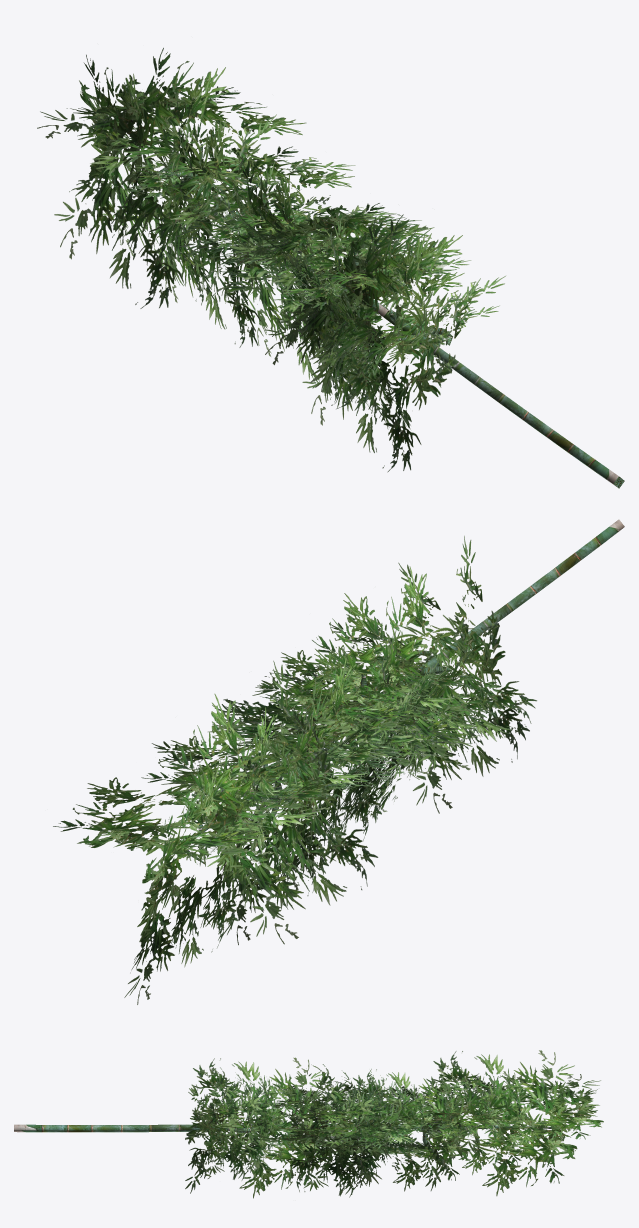
The picture shows the model from 3 angles, top to bottom: view 1: azimuth 30°, elevation 25°; view 2: azimuth 150°, elevation 25°; view 3: azimuth 270°, elevation 25°; orthographic projection. The views are drawn at different scales.
Visible parts, largest first — view 1: Sans_titre; view 2: Sans_titre; view 3: Sans_titre.
Part boxes in pixels (box(x1,y1,x2,y2)): Sans_titre: box(37, 47, 624, 488); Sans_titre: box(53, 519, 624, 1004); Sans_titre: box(14, 1050, 603, 1198).
Size of the model in its own units: 6.36 by 6.06 by 22.27.
3 materials, 3 textured.
